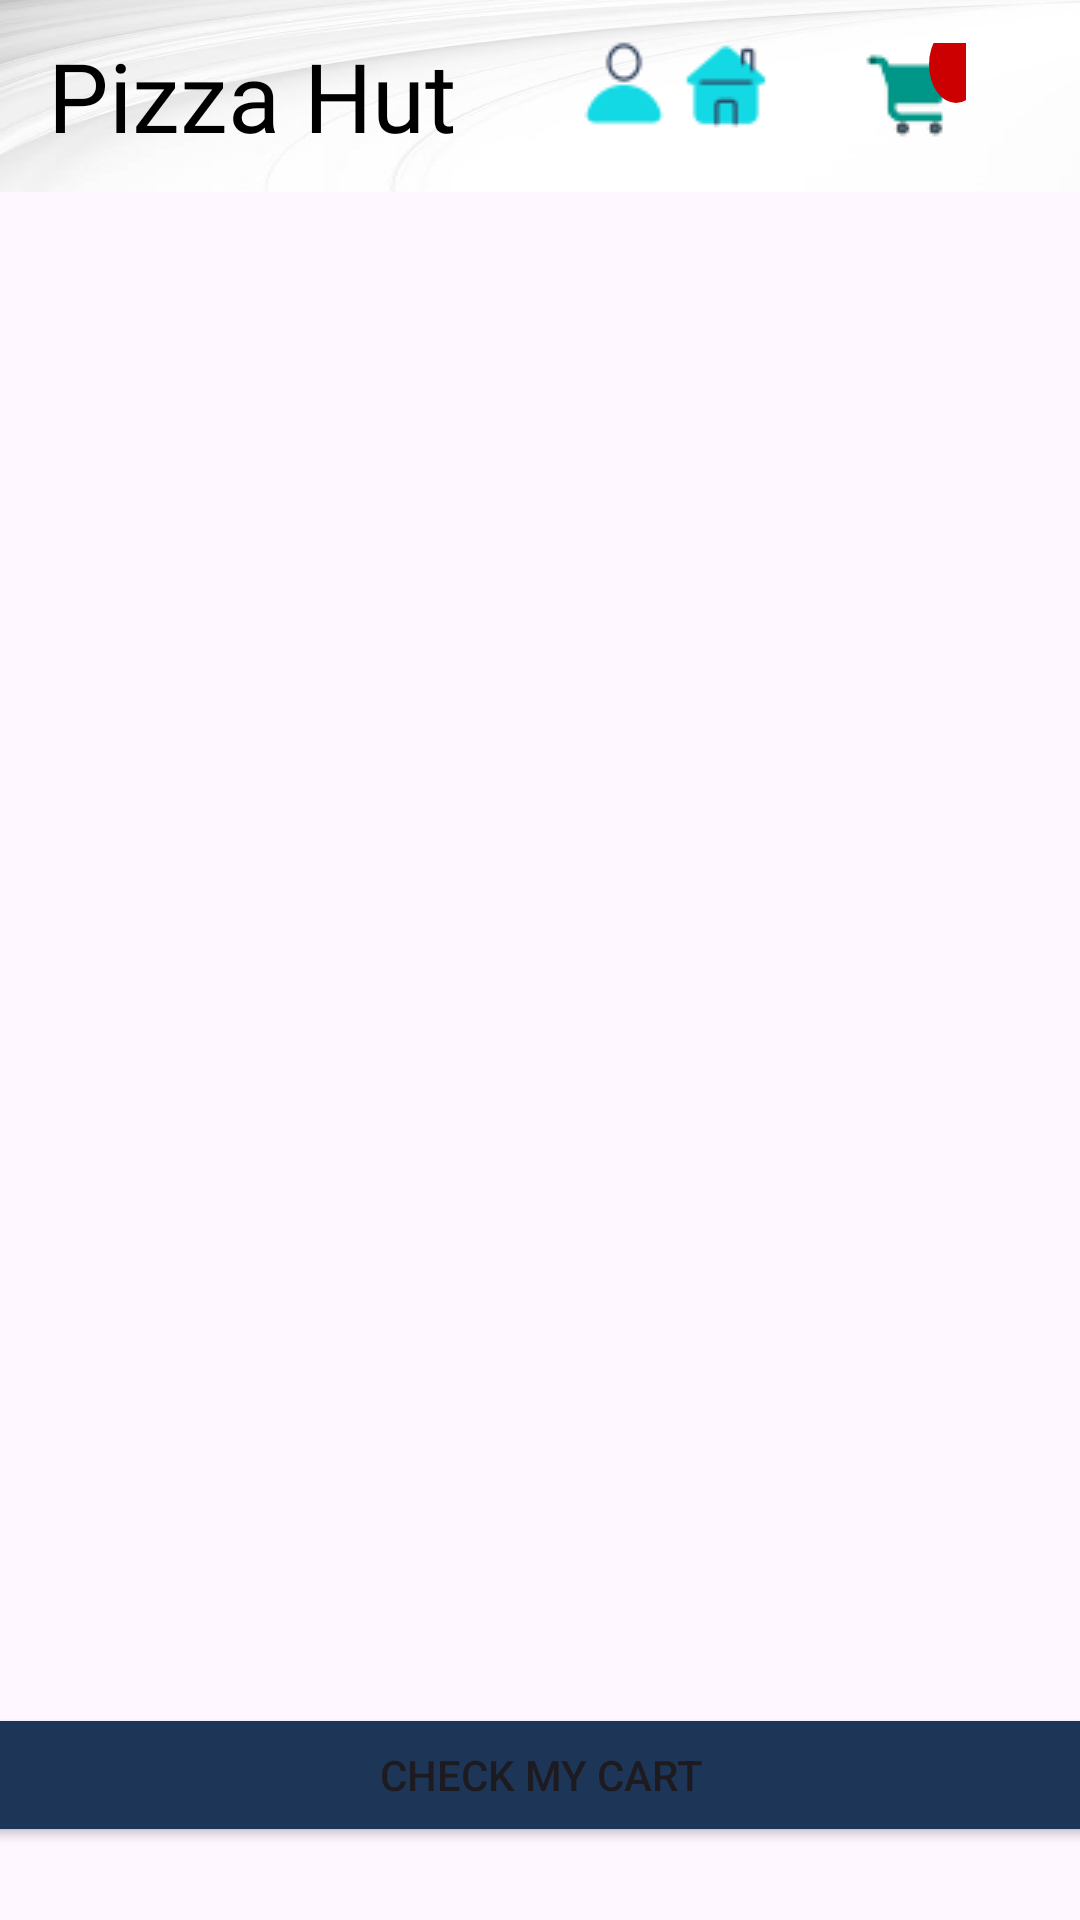

Locate icon controls on the screen. Image size 1080*1920, boxes as [left=x1, top=y1, right=x2, bottom=y2].
home: [left=686, top=45, right=766, bottom=127]
person: [left=585, top=42, right=663, bottom=125]
